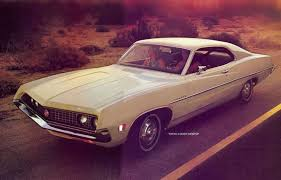car: (13, 37, 272, 155)
